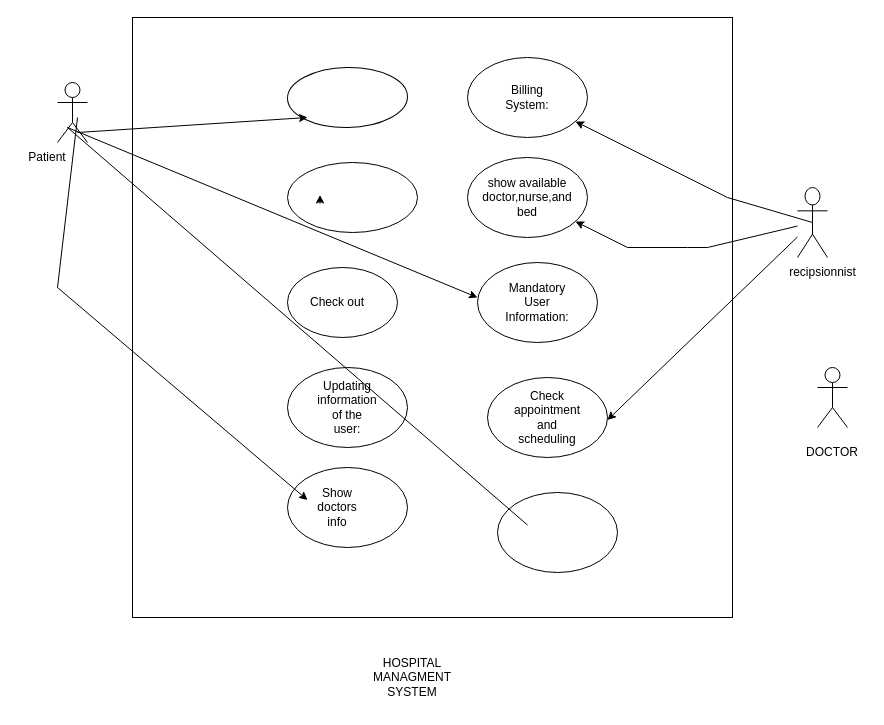
Some shapes in this 884 by 725 pixel diagram are drawn without their labels. The centre of each missing label's shape, as x and y in pixels:
Registration process: the point at 347,96
store past record of patient and doctors: the point at 352,197
Support: the point at 557,532
